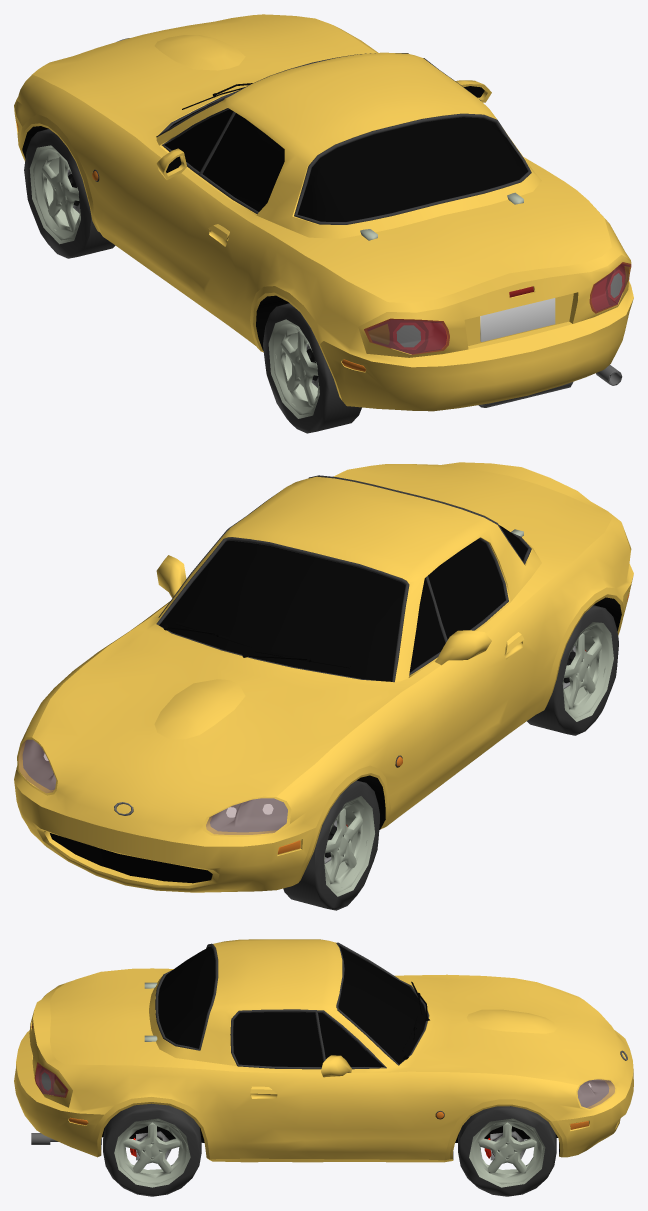
File: miata-uokP5_Ac.glb
3 renders of one model, top to bottom at view 1: azimuth 30°, elevation 25°; view 2: azimuth 150°, elevation 25°; view 3: azimuth 270°, elevation 25°, orthographic. The views are drawn at different scales.
Visible parts, largest first — view 1: MazdaMX5Mk2-body.001, MazdaMX5Mk2-body, MazdaMX5Mk2-rLWheel, MazdaMX5Mk2-fLWheel, MazdaMX5Mk2- rear LightCovers; view 2: MazdaMX5Mk2-body.001, MazdaMX5Mk2-body, MazdaMX5Mk2-fLWheel, MazdaMX5Mk2-rLWheel, MazdaMX5Mk2-frontLightCovers; view 3: MazdaMX5Mk2-body.001, MazdaMX5Mk2-body, MazdaMX5Mk2-rRWheel, MazdaMX5Mk2-fRWheel, MazdaMX5Mk2-frontLightCovers, MazdaMX5Mk2- rear LightCovers.
Boxes of the visible parts, left/top/right/bottom form: MazdaMX5Mk2-body.001: left=14, top=14, right=633, bottom=411; MazdaMX5Mk2-body: left=16, top=38, right=629, bottom=407; MazdaMX5Mk2-rLWheel: left=263, top=303, right=361, bottom=433; MazdaMX5Mk2-fLWheel: left=24, top=129, right=115, bottom=258; MazdaMX5Mk2- rear LightCovers: left=364, top=262, right=631, bottom=354; MazdaMX5Mk2-body.001: left=14, top=462, right=633, bottom=892; MazdaMX5Mk2-body: left=22, top=475, right=629, bottom=883; MazdaMX5Mk2-fLWheel: left=283, top=780, right=379, bottom=910; MazdaMX5Mk2-rLWheel: left=527, top=605, right=618, bottom=735; MazdaMX5Mk2-frontLightCovers: left=18, top=739, right=287, bottom=834; MazdaMX5Mk2-body.001: left=14, top=939, right=633, bottom=1162; MazdaMX5Mk2-body: left=31, top=942, right=627, bottom=1159; MazdaMX5Mk2-rRWheel: left=103, top=1103, right=201, bottom=1196; MazdaMX5Mk2-fRWheel: left=458, top=1106, right=556, bottom=1196; MazdaMX5Mk2-frontLightCovers: left=577, top=1079, right=615, bottom=1108; MazdaMX5Mk2- rear LightCovers: left=34, top=1062, right=68, bottom=1097.
Size of the model in its own units: 1.33 by 0.9441 by 2.92.
